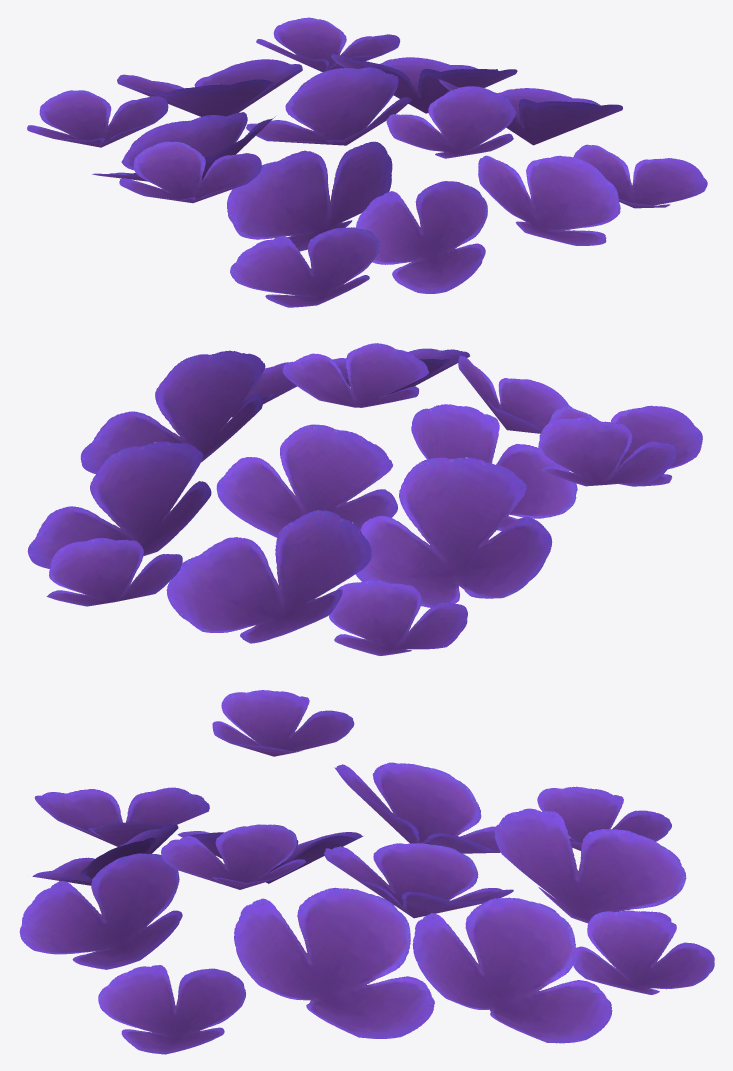
The model's file is Plant_7_Big.glb.
The picture shows the model from 3 angles, top to bottom: view 1: azimuth 30°, elevation 25°; view 2: azimuth 150°, elevation 25°; view 3: azimuth 270°, elevation 25°; orthographic projection. The views are drawn at different scales.
Visible parts, largest first — view 1: Plant_7_Big; view 2: Plant_7_Big; view 3: Plant_7_Big.
Part boxes in pixels (<box>): Plant_7_Big: <box>27,17,707,307</box>; Plant_7_Big: <box>27,343,702,655</box>; Plant_7_Big: <box>19,690,714,1054</box>.
Size of the model in its own units: 1.31 by 0.2534 by 1.36.
Materials: 1 (1 with a texture image).
